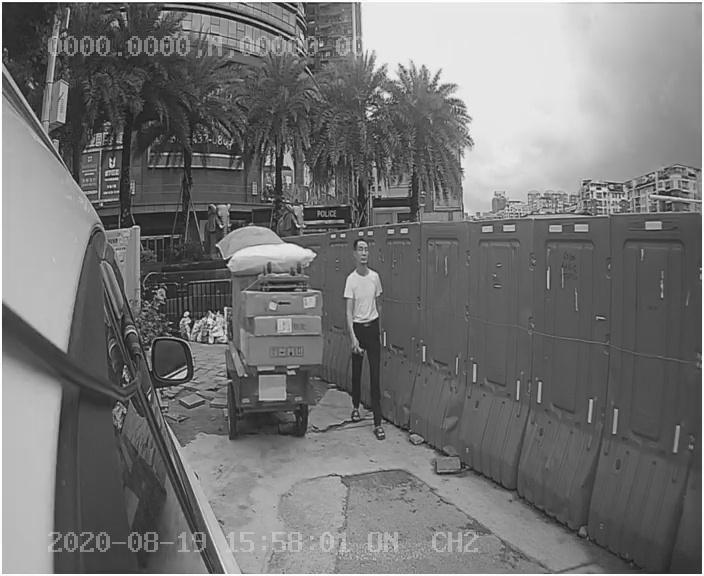person: (334, 232, 400, 444)
